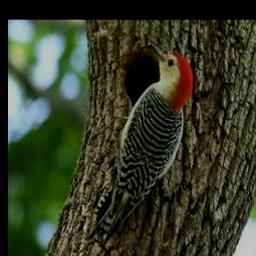Woodpecker: (85, 43, 193, 251)
